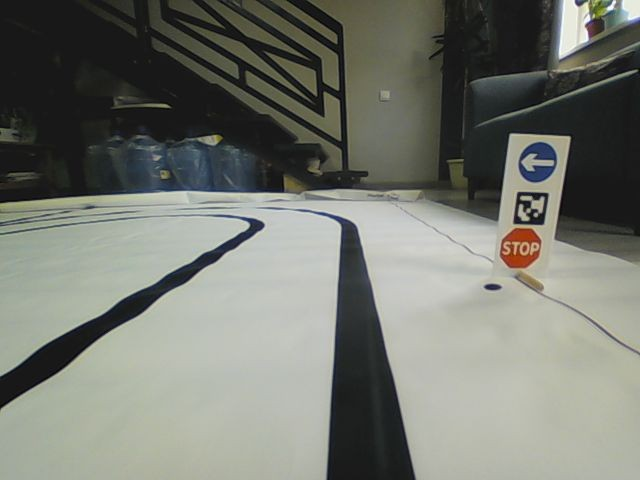Stop: (500, 227, 542, 270)
